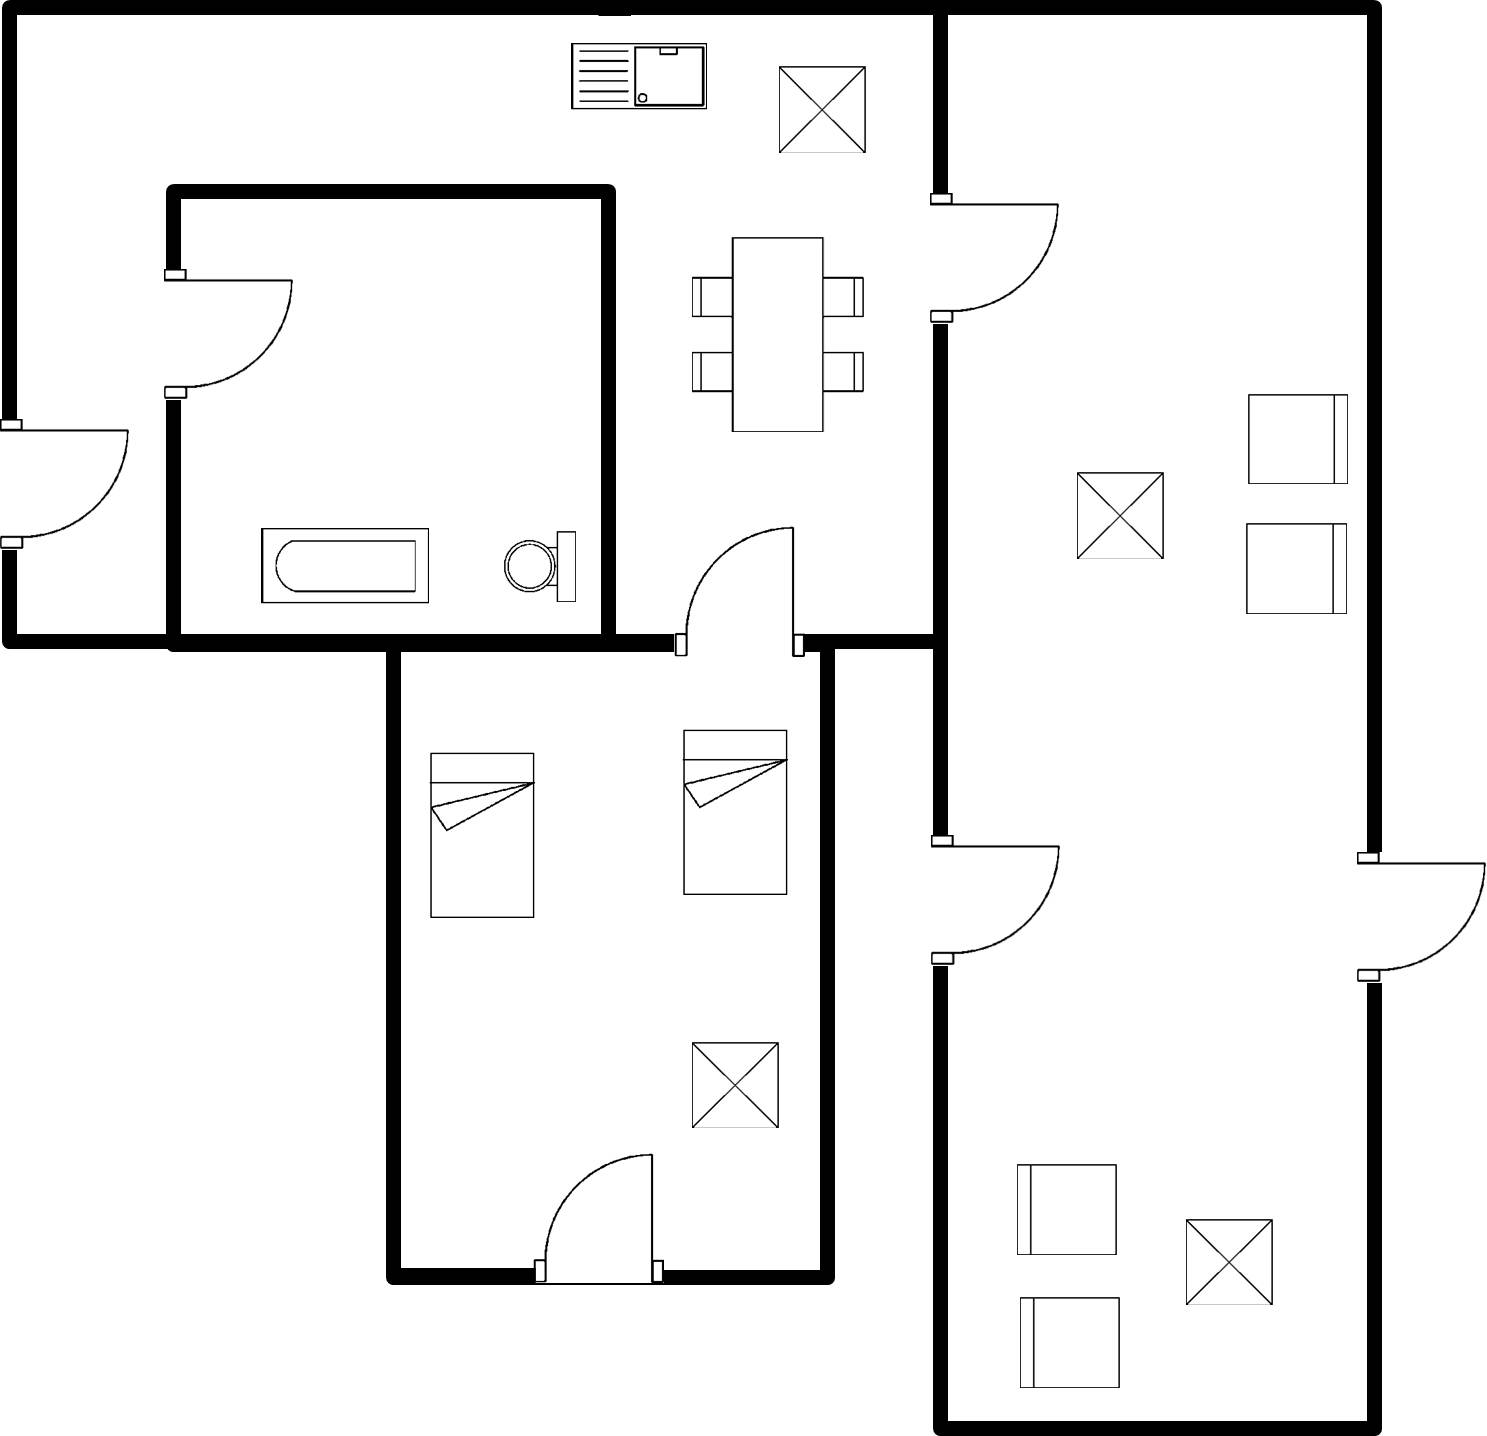bed: (416, 739, 547, 932), (672, 716, 796, 909)
coffee_table: (1176, 1208, 1286, 1318), (765, 56, 878, 163), (680, 1033, 793, 1137), (1063, 464, 1172, 570)
dining_table: (679, 226, 875, 447)
large_sink: (487, 516, 586, 619)
sink: (562, 33, 718, 125)
small_sofa: (1234, 514, 1356, 626), (1007, 1156, 1130, 1267), (1238, 385, 1356, 498), (1010, 1290, 1131, 1399)
tub: (251, 514, 438, 618)
